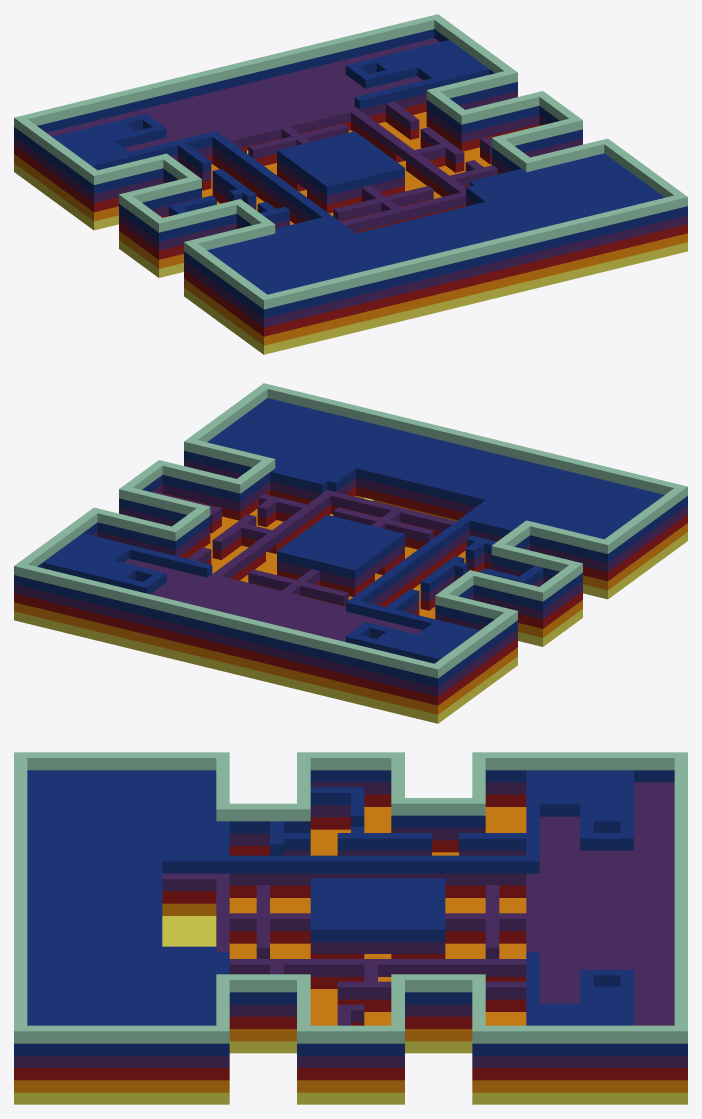
3 views of the same model, one above another, from view 1: azimuth 30°, elevation 25°; view 2: azimuth 150°, elevation 25°; view 3: azimuth 270°, elevation 25° (orthographic). The views are drawn at different scales.
Parts seen in each view (by area): view 1: BaseMap; view 2: BaseMap; view 3: BaseMap.
Part boxes in pixels (x1,y1,x2,y2): BaseMap: (14,14,687,354); BaseMap: (14,383,687,723); BaseMap: (14,752,687,1104).
Size of the model in its own units: 4900 by 600 by 5000.
